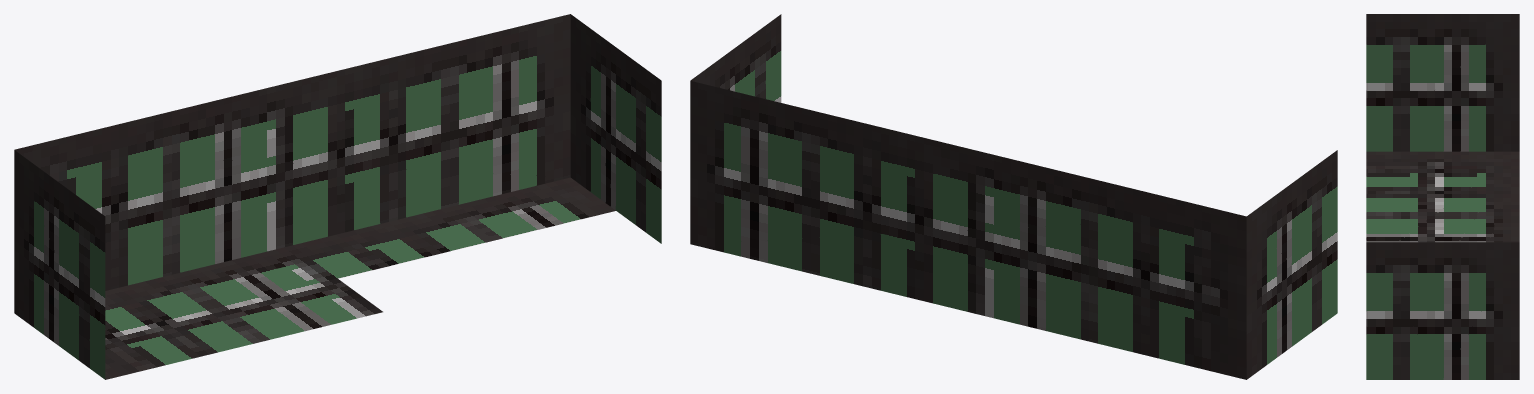
The model's file is balconyLadder_top.fbx.
3 views of the same model, side by side, from view 1: azimuth 30°, elevation 25°; view 2: azimuth 150°, elevation 25°; view 3: azimuth 270°, elevation 25° (orthographic). The views are drawn at different scales.
Visible parts, largest first — view 1: balconyLadder_top; view 2: balconyLadder_top; view 3: balconyLadder_top.
Part boxes in pixels (<box>): balconyLadder_top: <box>14,14,661,379</box>; balconyLadder_top: <box>690,14,1337,379</box>; balconyLadder_top: <box>1366,14,1519,379</box>.
Bounding box in the file's own units: 10 × 2.81 × 2.84.
